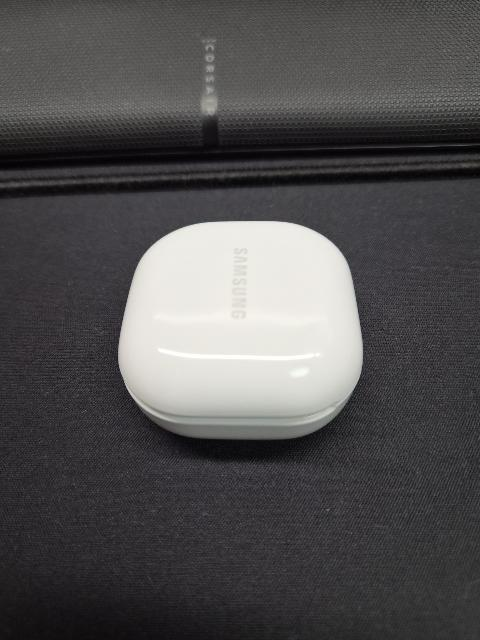earphone_case: (117, 221, 363, 440)
